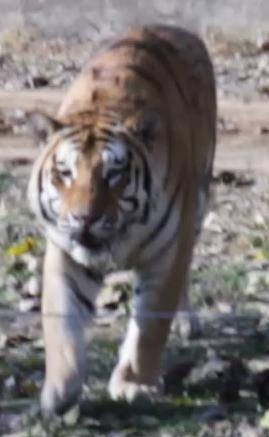tiger: (28, 24, 215, 412)
